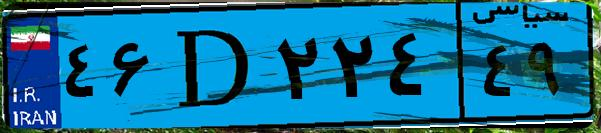2: (270, 28, 330, 110), (330, 28, 385, 110)
4: (385, 28, 445, 110), (57, 26, 110, 100), (475, 38, 525, 113)
6: (110, 28, 158, 98)
9: (525, 38, 570, 115)
D: (158, 12, 270, 120)
